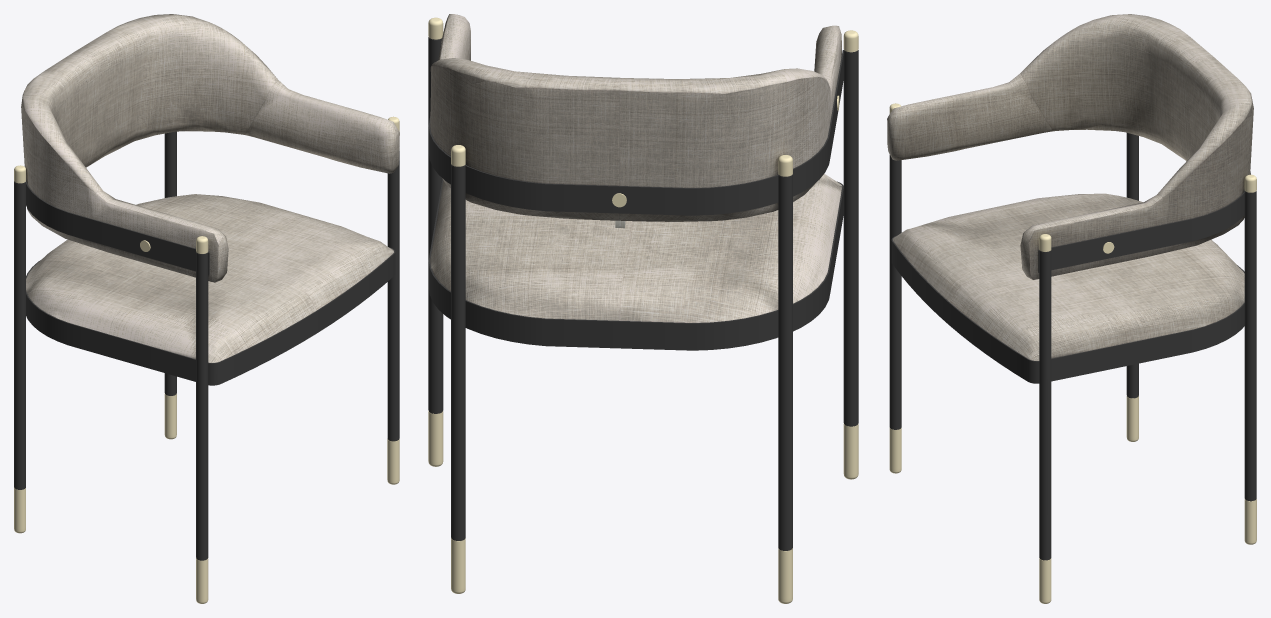
3 views of the same model, side by side, from view 1: azimuth 30°, elevation 25°; view 2: azimuth 150°, elevation 25°; view 3: azimuth 270°, elevation 25° (orthographic). The views are drawn at different scales.
Parts seen in each view (by area): view 1: Mesh14 Group14 skp4C6_1 Component_2_1 Model, Mesh1 Group2 Group1 Component_2_1 Model, Mesh7 Group8 Component_1_1 Component_2_1 Model, Mesh2 Group3 Component_2_1 Model, Mesh10 Group11 Component_1_2 Component_2_1 Model, Mesh22 Group23 Component_1_3 Component_2_2 Model, Mesh23 Group24 Component_1_3 Component_2_2 Model, Mesh25 Group26 Component_1_4 Component_2_2 Model; view 2: Mesh14 Group14 skp4C6_1 Component_2_1 Model, Mesh1 Group2 Group1 Component_2_1 Model, Mesh2 Group3 Component_2_1 Model, Mesh7 Group8 Component_1_1 Component_2_1 Model, Mesh10 Group11 Component_1_2 Component_2_1 Model, Mesh25 Group26 Component_1_4 Component_2_2 Model, Mesh23 Group24 Component_1_3 Component_2_2 Model, Mesh22 Group23 Component_1_3 Component_2_2 Model; view 3: Mesh14 Group14 skp4C6_1 Component_2_1 Model, Mesh1 Group2 Group1 Component_2_1 Model, Mesh2 Group3 Component_2_1 Model, Mesh25 Group26 Component_1_4 Component_2_2 Model, Mesh22 Group23 Component_1_3 Component_2_2 Model, Mesh7 Group8 Component_1_1 Component_2_1 Model, Mesh23 Group24 Component_1_3 Component_2_2 Model, Mesh10 Group11 Component_1_2 Component_2_1 Model.
Boxes of the visible parts, bbox=[...] form: Mesh14 Group14 skp4C6_1 Component_2_1 Model: bbox=[21, 14, 399, 362]; Mesh1 Group2 Group1 Component_2_1 Model: bbox=[26, 247, 395, 385]; Mesh7 Group8 Component_1_1 Component_2_1 Model: bbox=[196, 252, 208, 560]; Mesh2 Group3 Component_2_1 Model: bbox=[26, 181, 209, 274]; Mesh10 Group11 Component_1_2 Component_2_1 Model: bbox=[14, 181, 25, 489]; Mesh22 Group23 Component_1_3 Component_2_2 Model: bbox=[387, 151, 399, 441]; Mesh23 Group24 Component_1_3 Component_2_2 Model: bbox=[14, 116, 399, 603]; Mesh25 Group26 Component_1_4 Component_2_2 Model: bbox=[164, 131, 176, 395]; Mesh14 Group14 skp4C6_1 Component_2_1 Model: bbox=[430, 14, 842, 322]; Mesh1 Group2 Group1 Component_2_1 Model: bbox=[428, 179, 843, 350]; Mesh2 Group3 Component_2_1 Model: bbox=[428, 50, 843, 215]; Mesh7 Group8 Component_1_1 Component_2_1 Model: bbox=[843, 50, 858, 426]; Mesh10 Group11 Component_1_2 Component_2_1 Model: bbox=[778, 174, 792, 550]; Mesh25 Group26 Component_1_4 Component_2_2 Model: bbox=[451, 164, 465, 540]; Mesh23 Group24 Component_1_3 Component_2_2 Model: bbox=[428, 17, 858, 603]; Mesh22 Group23 Component_1_3 Component_2_2 Model: bbox=[428, 37, 443, 413]; Mesh14 Group14 skp4C6_1 Component_2_1 Model: bbox=[887, 14, 1253, 360]; Mesh1 Group2 Group1 Component_2_1 Model: bbox=[891, 235, 1244, 383]; Mesh2 Group3 Component_2_1 Model: bbox=[1038, 171, 1250, 272]; Mesh25 Group26 Component_1_4 Component_2_2 Model: bbox=[1244, 191, 1256, 501]; Mesh22 Group23 Component_1_3 Component_2_2 Model: bbox=[1039, 250, 1051, 560]; Mesh7 Group8 Component_1_1 Component_2_1 Model: bbox=[889, 155, 901, 429]; Mesh23 Group24 Component_1_3 Component_2_2 Model: bbox=[889, 103, 1256, 603]; Mesh10 Group11 Component_1_2 Component_2_1 Model: bbox=[1126, 133, 1138, 398].
Bounding box in the file's own units: 0.6511 × 0.7827 × 0.6088.
4 materials, 2 textured.
